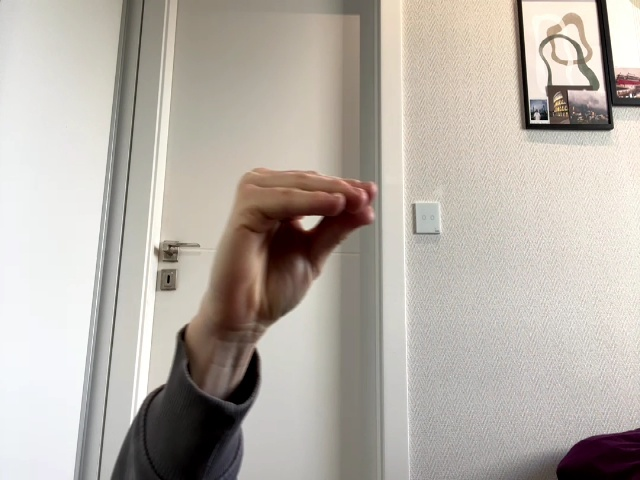E: (198, 168, 377, 357)
